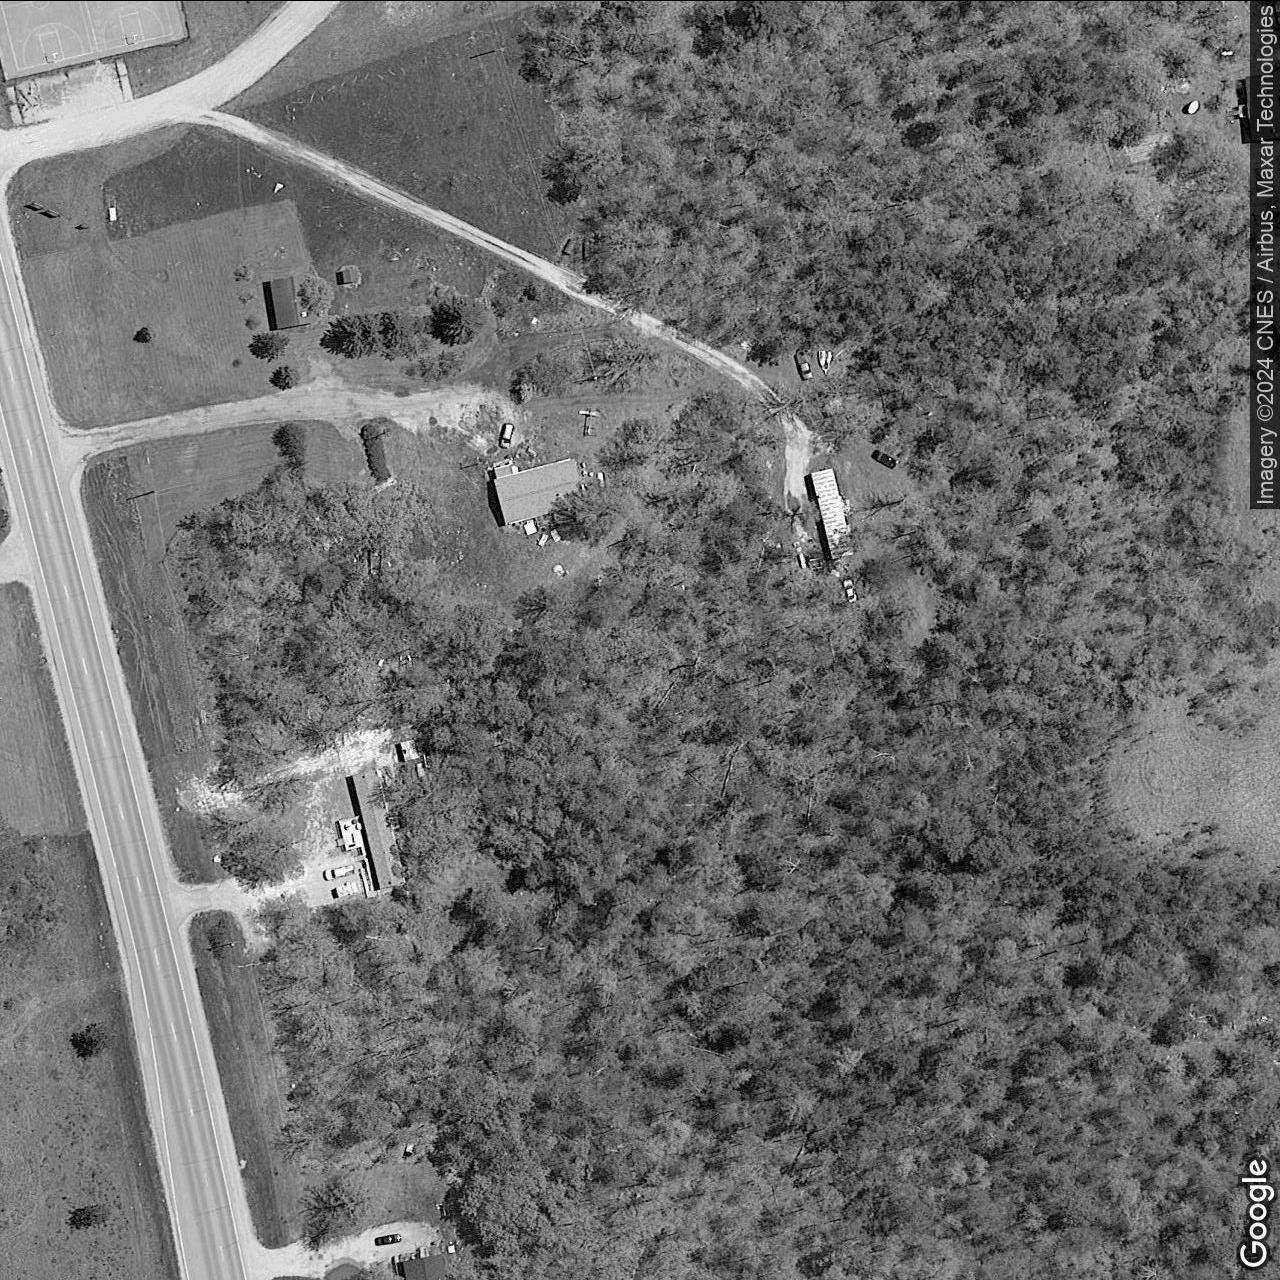Garage: (267, 271, 319, 331)
House: (490, 454, 587, 527), (401, 1252, 449, 1280)
Propane: (594, 468, 610, 490), (794, 551, 809, 571)
Trailer: (350, 767, 408, 891), (809, 464, 856, 561)
